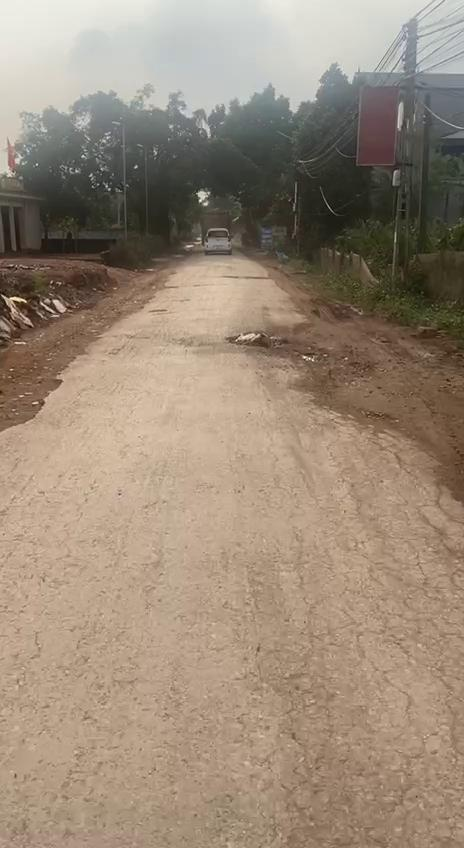pothole: (221, 326, 287, 358)
